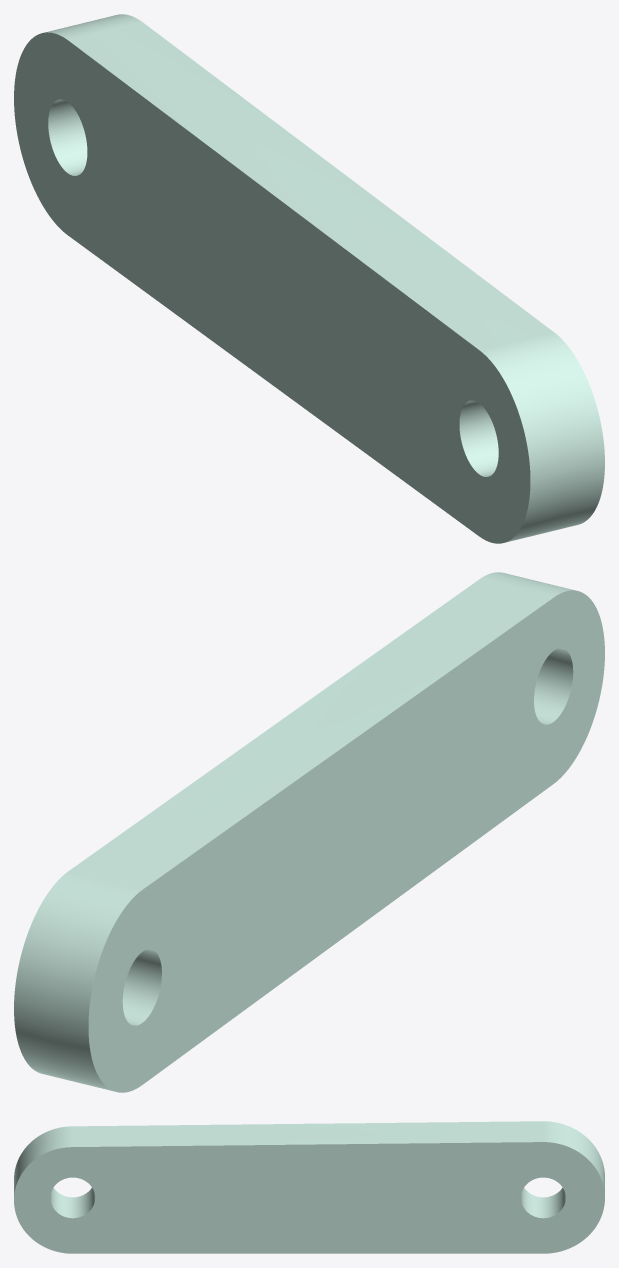
The picture shows the model from 3 angles, top to bottom: view 1: azimuth 30°, elevation 25°; view 2: azimuth 150°, elevation 25°; view 3: azimuth 270°, elevation 25°; orthographic projection. The views are drawn at different scales.
Parts seen in each view (by area): view 1: Renderer Node; view 2: Renderer Node; view 3: Renderer Node.
Part boxes in pixels (x1,y1,x2,y2): Renderer Node: (14,14,604,543); Renderer Node: (14,572,604,1092); Renderer Node: (14,1121,604,1253).
Size of the model in its own units: 0.125 by 0.313 by 1.5.
